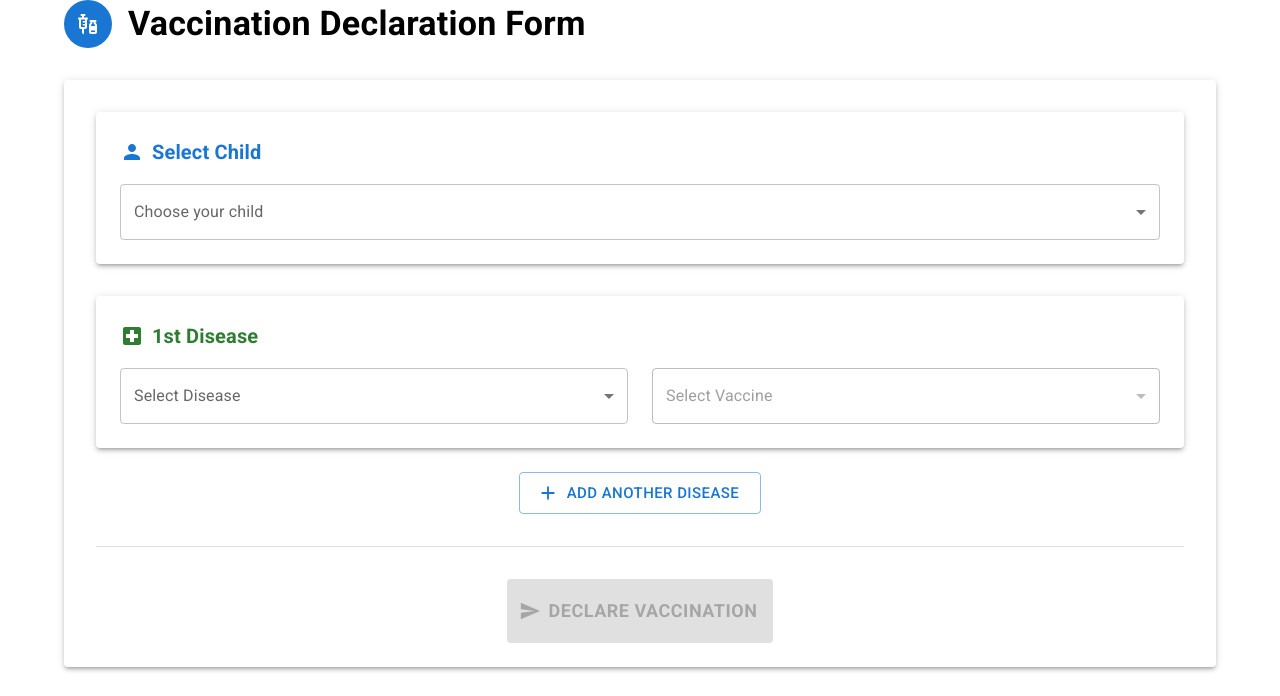
Test case: VaccinationDeclarationContent - Comprehensive Tests › Helper Functions › ordinal number generation works correctly
Expected: the heading "1st Disease" is shown, [152,320,258,352]
Note: Add diseases to test other ordinals
Click the button "Add Another Disease" at (640,493), box [519,472,761,514]
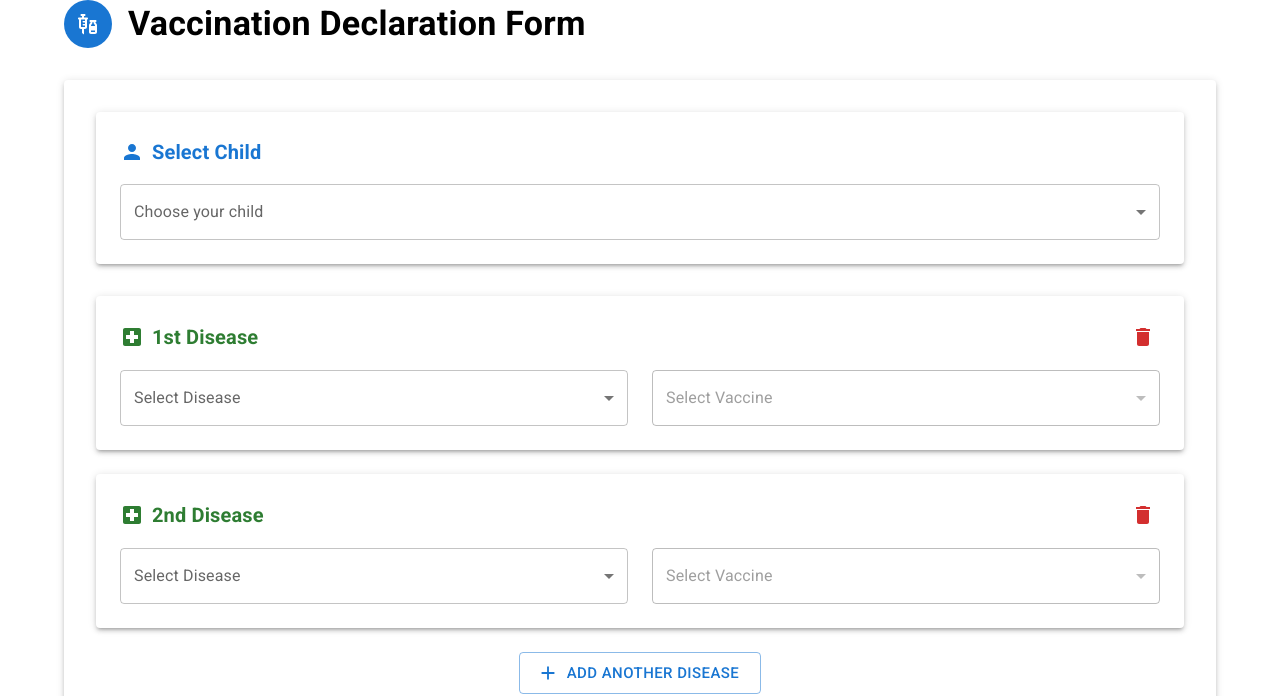
Expected: the heading "2nd Disease" is shown, [152,499,264,531]
Click the button "Add Another Disease" at (640,673), box [519,652,761,694]
(page scrolled)
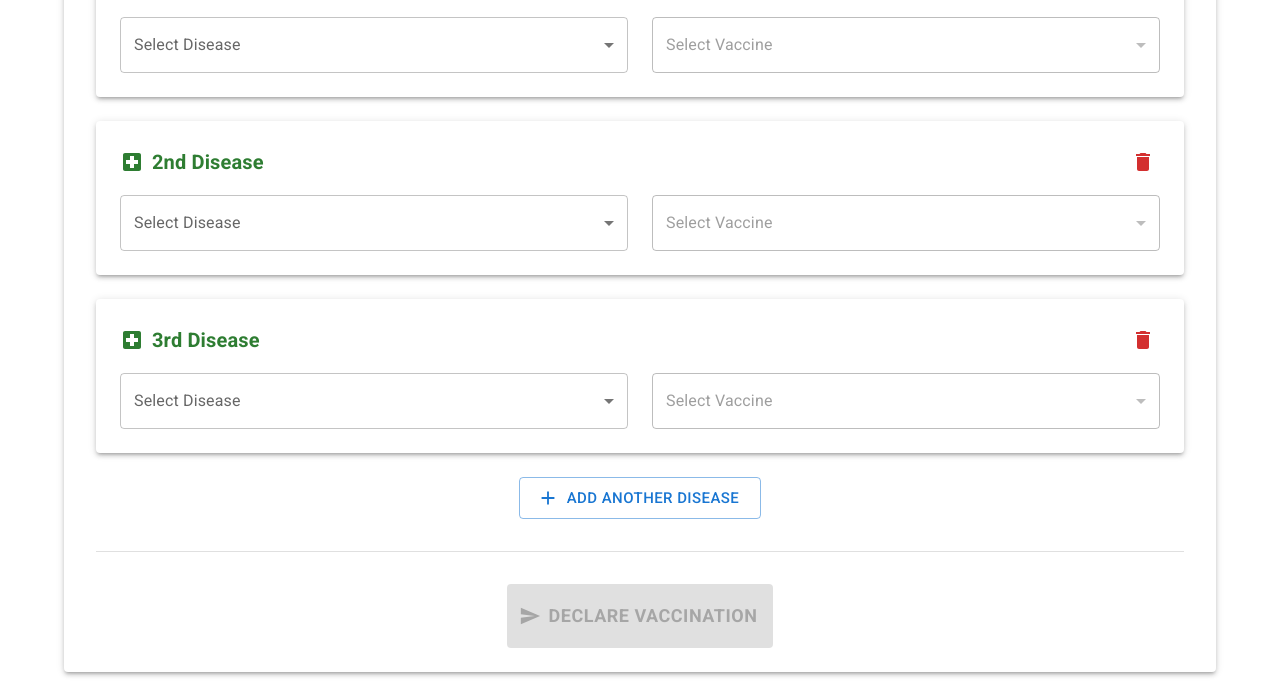
Expected: the heading "3rd Disease" is shown, [152,324,260,356]
